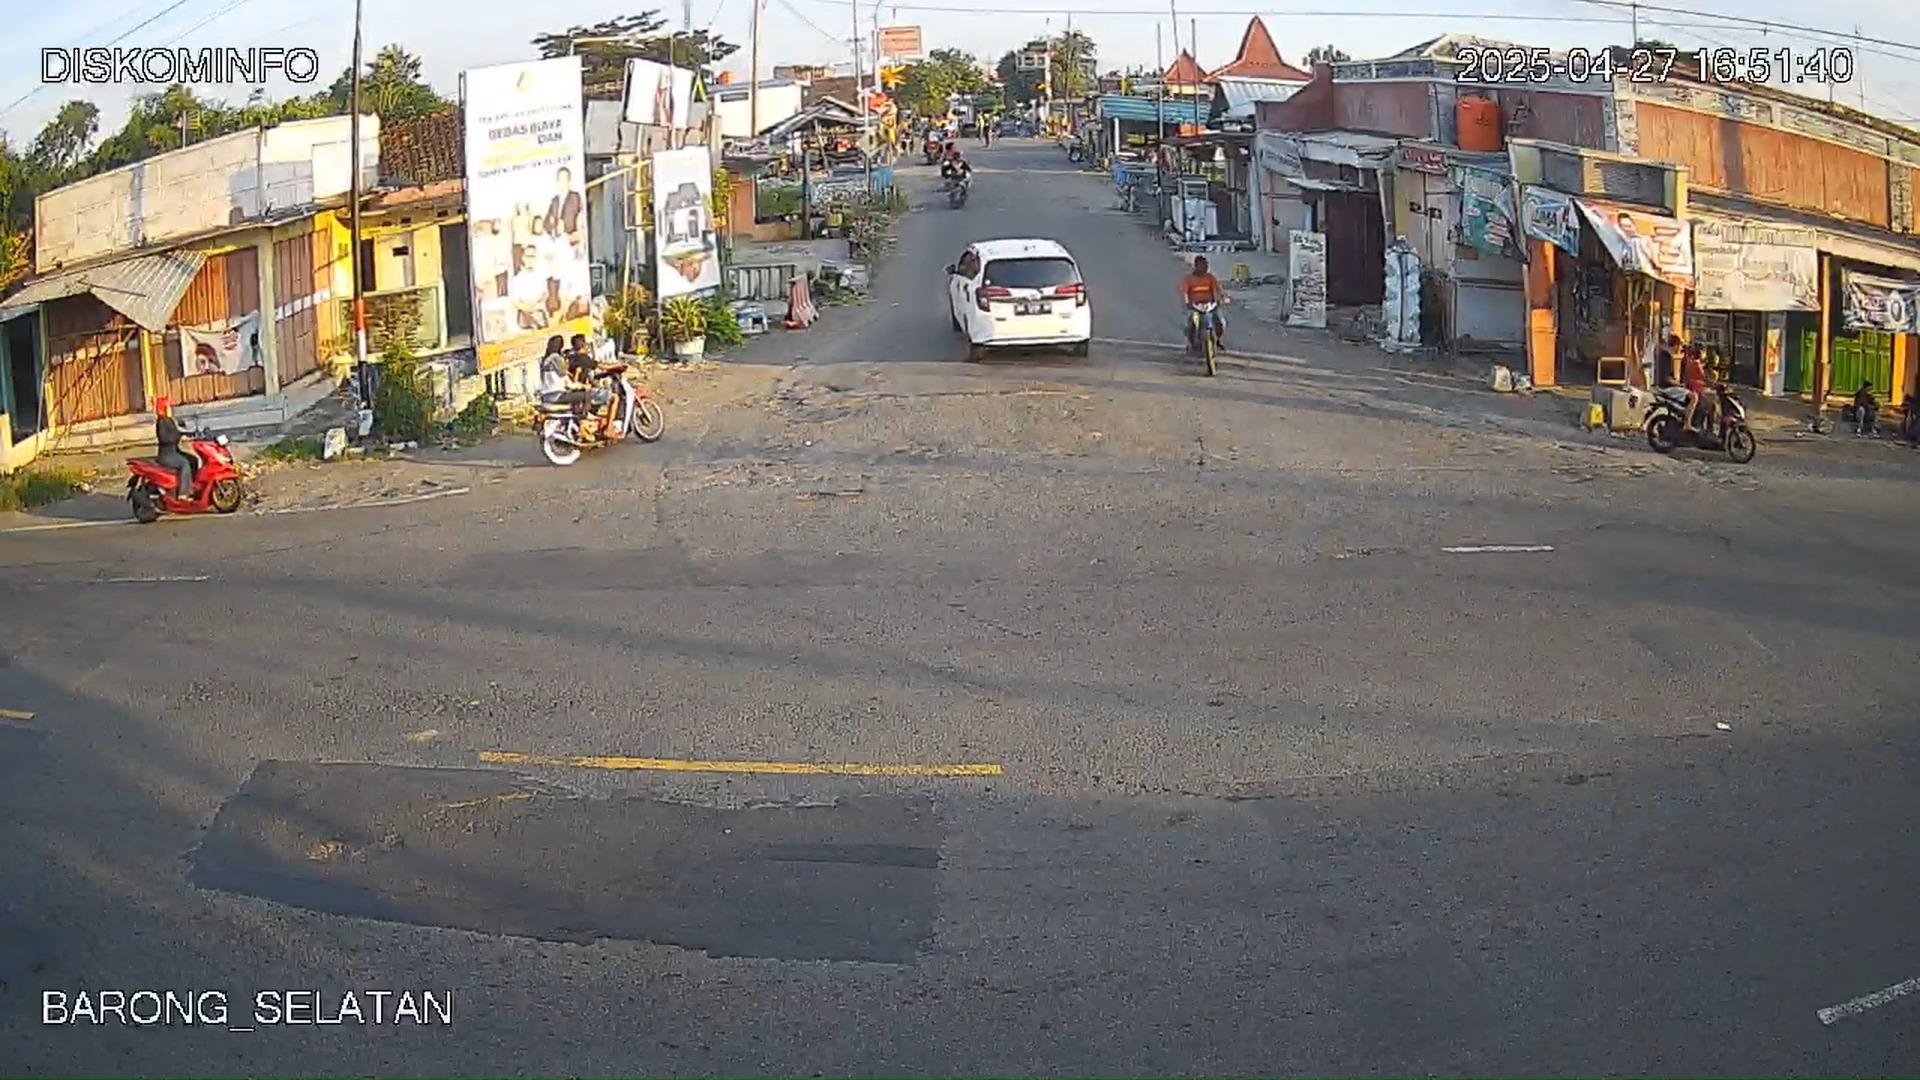Motor: (534, 356, 670, 468), (127, 398, 244, 525), (1639, 376, 1754, 463), (1178, 253, 1225, 352)
mobil: (943, 236, 1088, 363)
